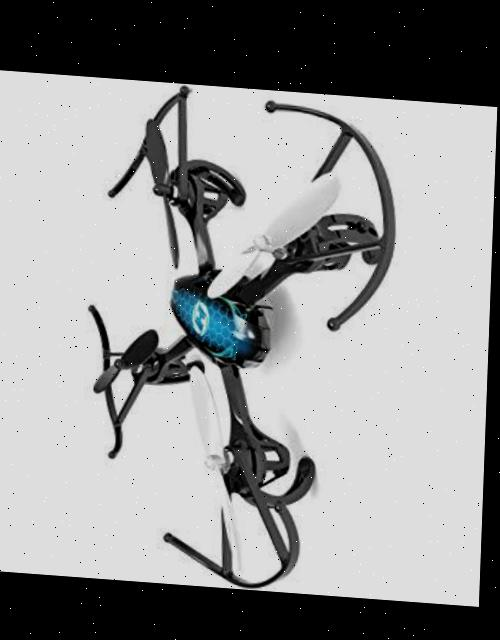drone: (0, 70, 498, 599)
